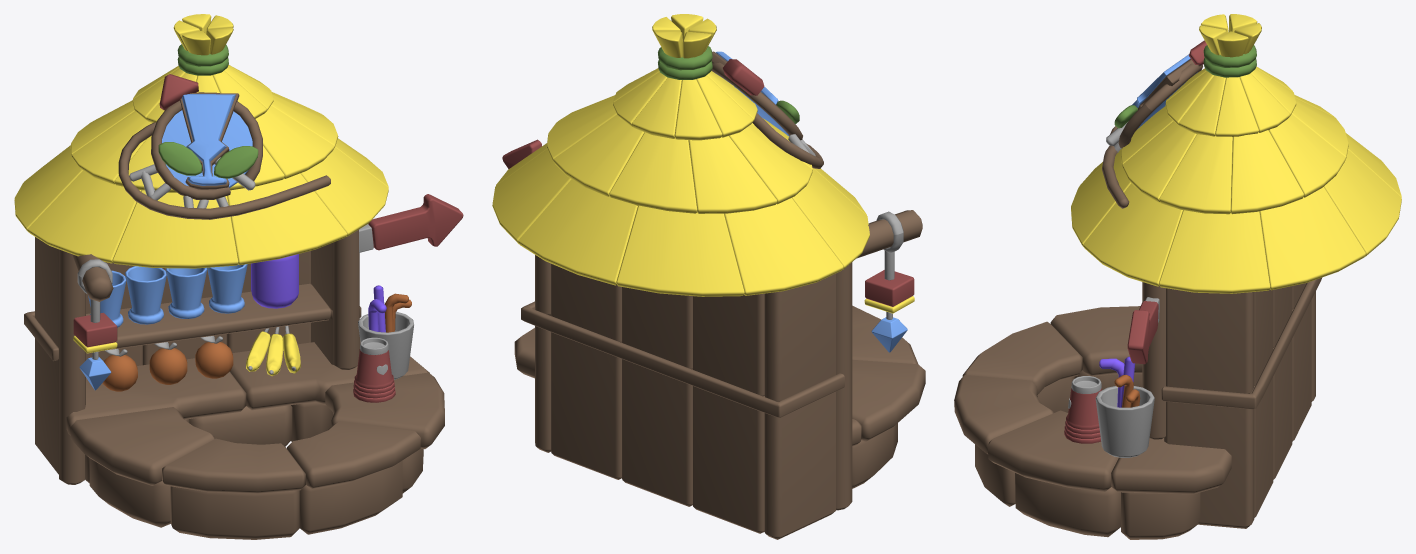
Rendered from BeachBar.fbx.
3 renders of one model, left to right at view 1: azimuth 30°, elevation 25°; view 2: azimuth 150°, elevation 25°; view 3: azimuth 270°, elevation 25°, orthographic. The views are drawn at different scales.
Parts seen in each view (by area): view 1: S_BeachBar, M_BeachBar; view 2: S_BeachBar, M_BeachBar; view 3: S_BeachBar, M_BeachBar.
Boxes of the visible parts, x1,y1,x2,y2 form: S_BeachBar: [14, 14, 463, 402]; M_BeachBar: [35, 229, 444, 539]; S_BeachBar: [492, 14, 922, 417]; M_BeachBar: [514, 255, 925, 539]; S_BeachBar: [1064, 14, 1401, 457]; M_BeachBar: [954, 282, 1315, 539].
Bounding box in the file's own units: 548 × 575 × 533.
